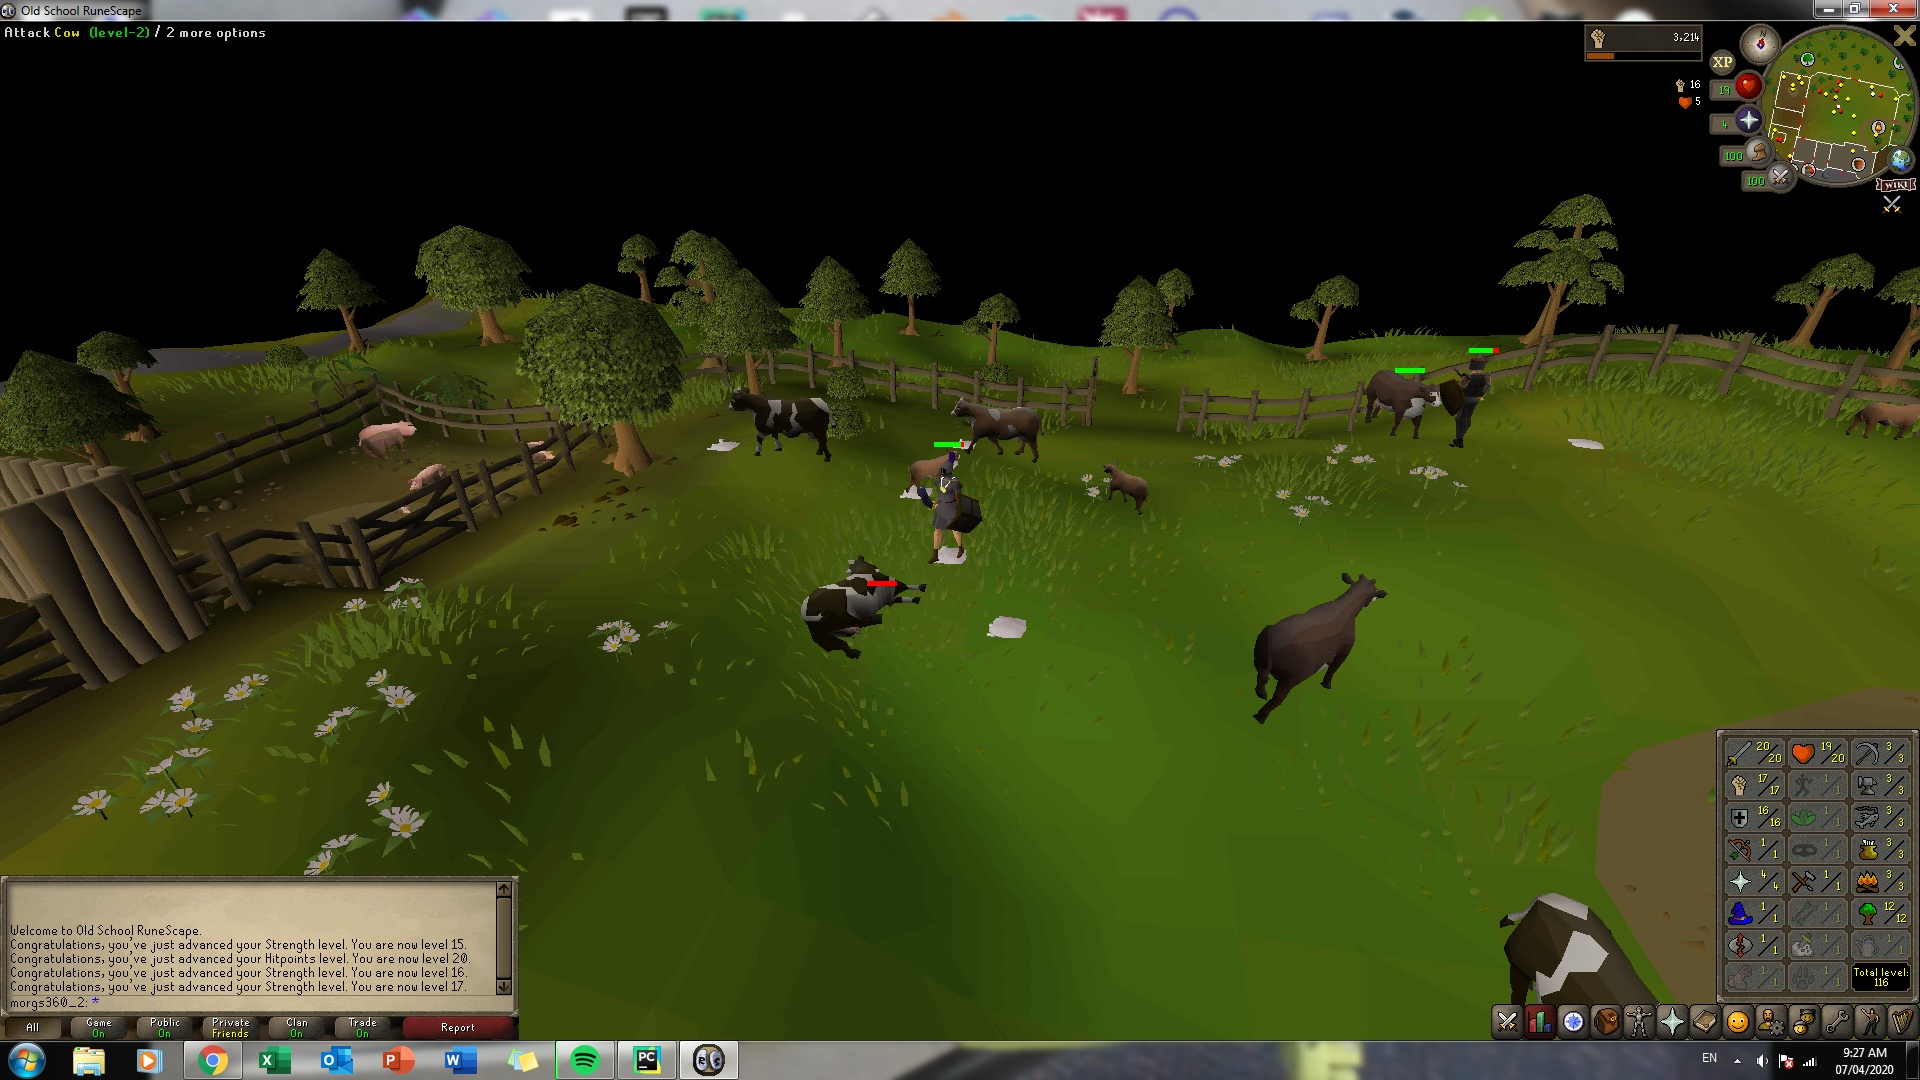cow: (1254, 560, 1385, 722), (1495, 885, 1664, 1001), (802, 553, 921, 657), (726, 382, 834, 466), (952, 397, 1041, 461), (1364, 367, 1444, 437), (1100, 459, 1150, 512), (913, 449, 947, 487)
player: (930, 460, 967, 567)
